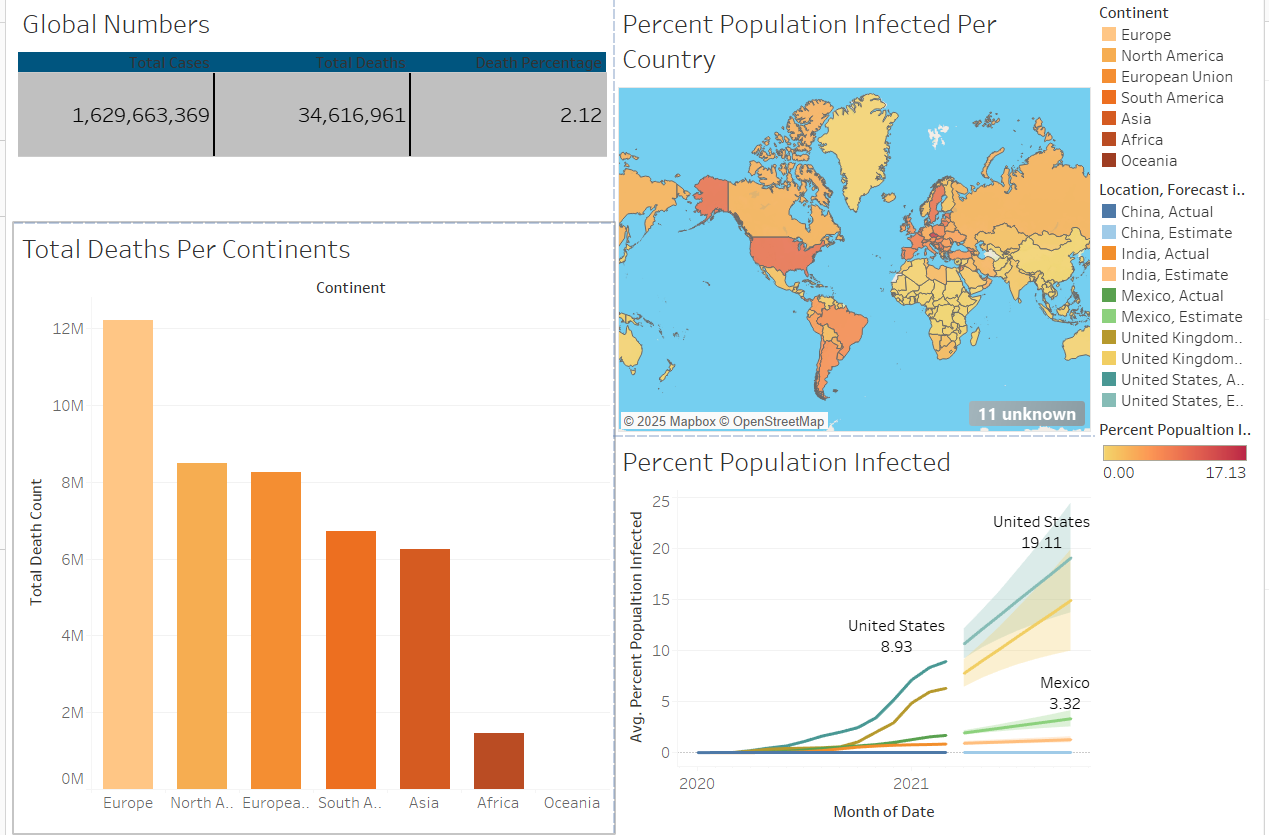

The page's visual inventory and layout, read from the dashboard file:
{"tool":"tableau","page":{"name":"Dashboard 1","canvas":[1000,1000],"units":"permille","ordinal":0},"visuals":[{"type":"worksheet","title":"Sheet 1","mark":"Automatic","box":[4.8,9.4,459.3,300.8]},{"type":"worksheet","title":"Sheet 3","mark":"Automatic","box":[464.1,9.4,434.5,514.7]},{"type":"legend","title":"Sheet 2","param":"[federated.123karx1dn4tkc1h1npsw1wndfcd].[none:location:nk]","box":[898.6,9.4,96.6,208]},{"type":"legend","title":"Sheet 4","param":"[federated.0x7n1h416ctasy1ad0cd219d8obt].[none:Location:nk]\n[federated.0x7n1h416","box":[898.6,217.4,96.6,282]},{"type":"worksheet","title":"Sheet 2","mark":"Automatic","rows":["TotalDeathCount"],"cols":["location"],"box":[4.8,310.2,459.3,680.4]},{"type":"legend","title":"Sheet 3","param":"[federated.16vcy0r1jzxsx819jy8cp0re9oj3].[sum:PercentPopualtionInfected:qk]","box":[898.6,499.4,96.6,85.8]},{"type":"worksheet","title":"Sheet 4","mark":"Automatic","rows":["PercentPopualtionInfected"],"cols":["date"],"box":[464.1,524.1,434.5,466.5]}]}

Visuals, with their boxes on the dashboard's canvas, which has no fixed pixel size, in thousandths of its width and height (x1, y1, x2, y2). These are canvas units, not pixel positions in the 1269x835 screenshot, which may show the page scaled, cropped or inside an application window:
"Sheet 1" worksheet: rect(5, 9, 464, 310)
"Sheet 3" worksheet: rect(464, 9, 899, 524)
"Sheet 2" legend: rect(899, 9, 995, 217)
"Sheet 4" legend: rect(899, 217, 995, 499)
"Sheet 2" worksheet: rect(5, 310, 464, 991)
"Sheet 3" legend: rect(899, 499, 995, 585)
"Sheet 4" worksheet: rect(464, 524, 899, 991)
